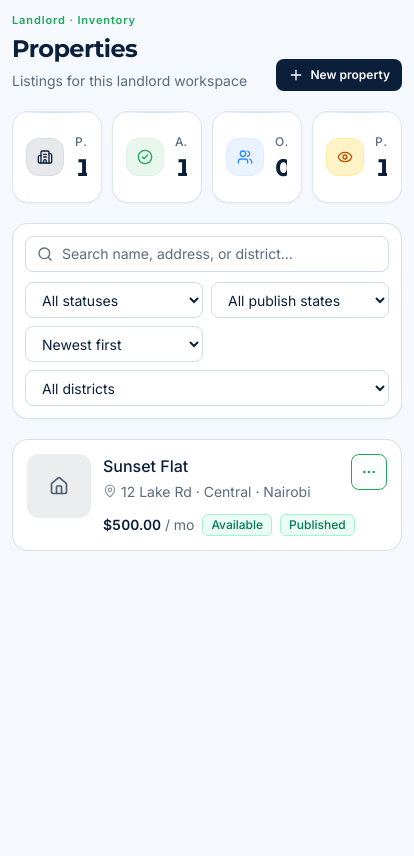
Test: PropertiesPage delete action › shows Delete for landlord_admin
Click the button named "Property actions".
click(369, 472)  # box [351,454,387,490]
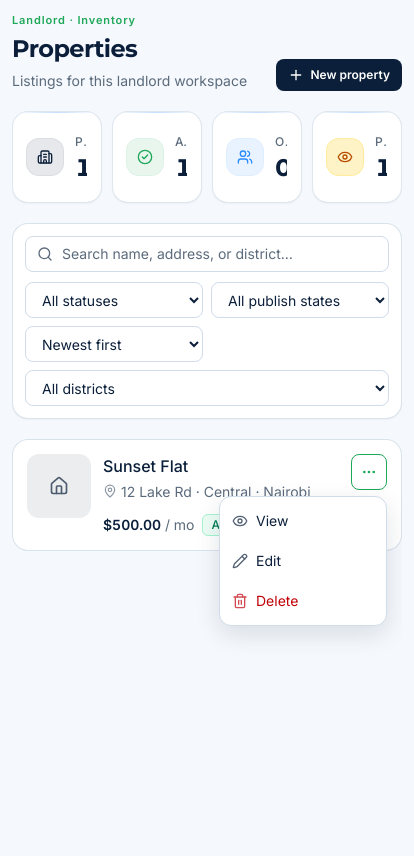
Expected: the menu item "Delete" is shown, [220,580,386,620]
Expected: the menu item "View" is shown, [232,512,288,528]
Expected: the menu item "Edit" is shown, [232,552,281,568]
